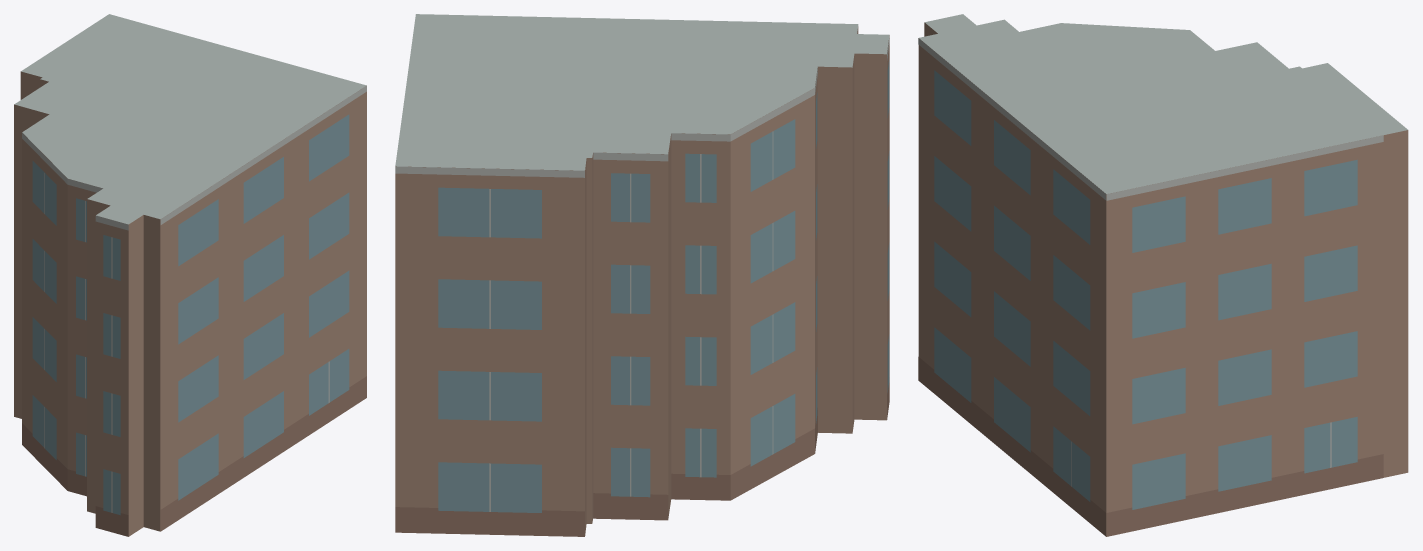
Rendered from survey-upis-32745867.glb.
3 views of the same model, side by side, from view 1: azimuth 30°, elevation 25°; view 2: azimuth 150°, elevation 25°; view 3: azimuth 270°, elevation 25° (orthographic). The views are drawn at different scales.
Parts seen in each view (by area): view 1: survey-upis-32745867.tmp; view 2: survey-upis-32745867.tmp; view 3: survey-upis-32745867.tmp.
Boxes of the visible parts, x1=… form: survey-upis-32745867.tmp: x1=14, y1=14, x2=366, y2=536; survey-upis-32745867.tmp: x1=395, y1=14, x2=889, y2=536; survey-upis-32745867.tmp: x1=918, y1=14, x2=1408, y2=536.
Bounding box in the file's own units: 14.14 × 12.53 × 16.24.
